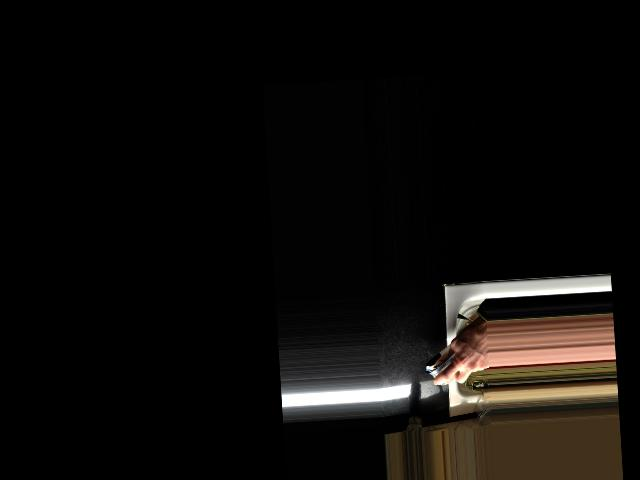cheese: (421, 333, 487, 383)
